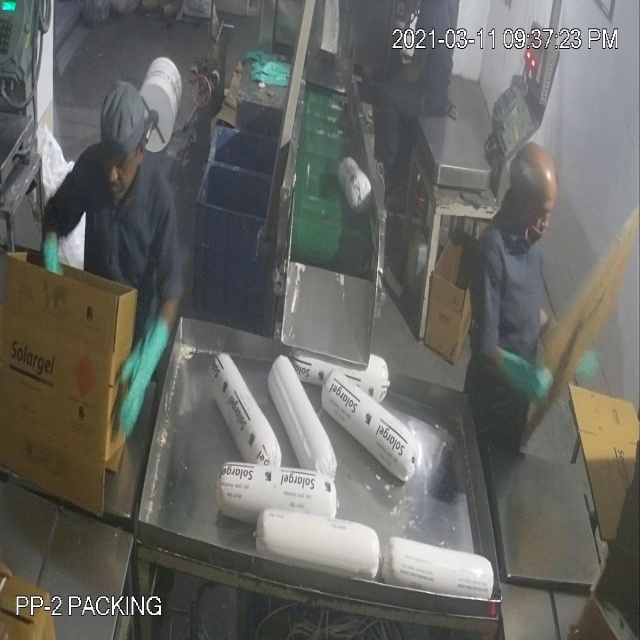Guantes: (112, 306, 176, 446), (494, 330, 554, 422)
